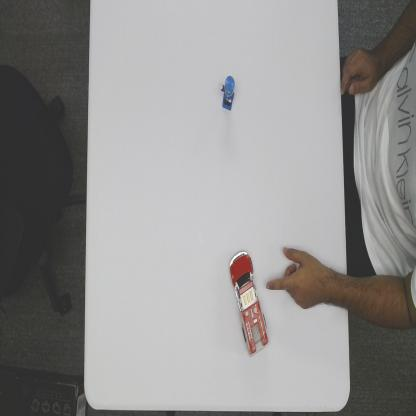Arm: (324, 262, 347, 310)
Firetruck: (227, 247, 269, 356)
Hand: (266, 248, 326, 312)
